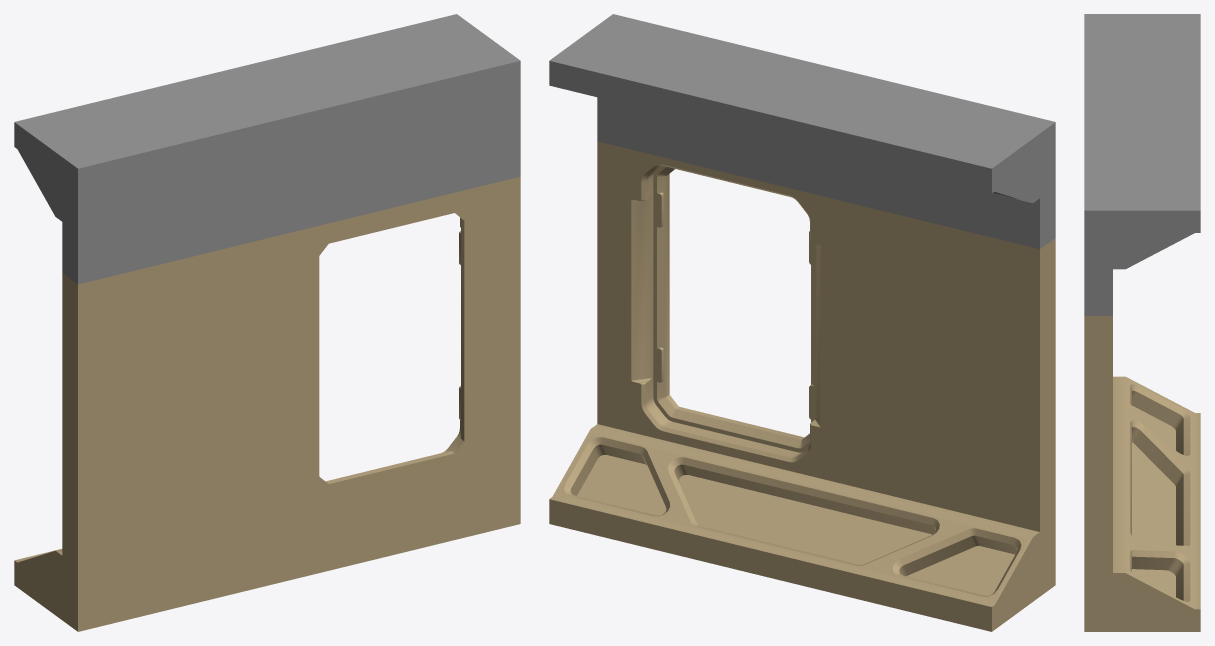
The model's file is wall-door.FBX.
The picture shows the model from 3 angles, left to right: view 1: azimuth 30°, elevation 25°; view 2: azimuth 150°, elevation 25°; view 3: azimuth 270°, elevation 25°; orthographic projection. The views are drawn at different scales.
Visible parts, largest first — view 1: wall_low, floor_low, dool_low; view 2: wall_low, floor_low, dool_low; view 3: wall_low, floor_low.
Part boxes in pixels (x1,y1,x2,y2): wall_low: [14, 176, 520, 631]; floor_low: [14, 14, 520, 284]; dool_low: [309, 202, 473, 494]; wall_low: [549, 141, 1055, 631]; floor_low: [549, 14, 1055, 249]; dool_low: [653, 166, 815, 452]; wall_low: [1084, 316, 1200, 631]; floor_low: [1084, 14, 1200, 315].
Bounding box in the file's own units: 400 × 400 × 99.99.
